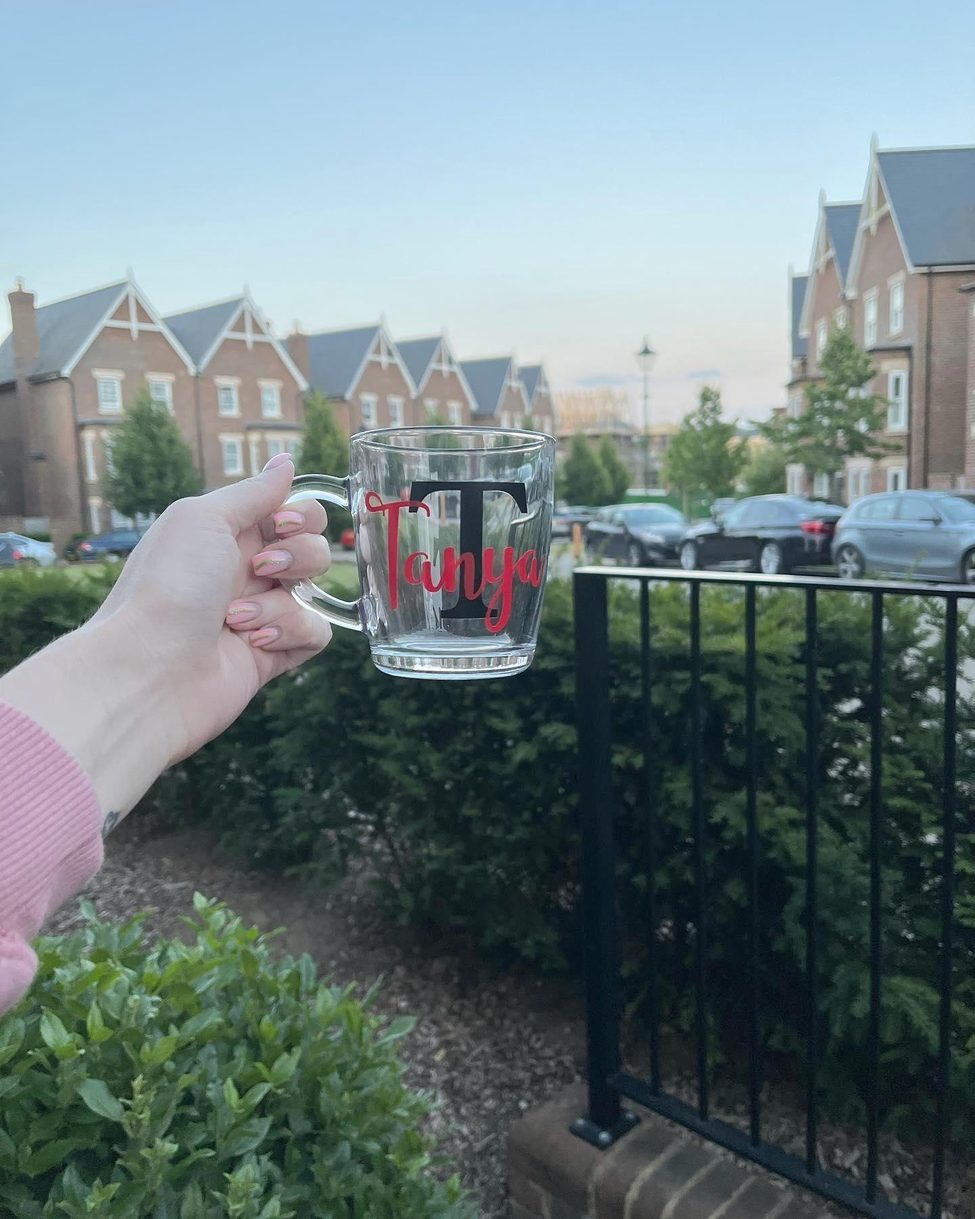glass-mug: (277, 416, 563, 688)
